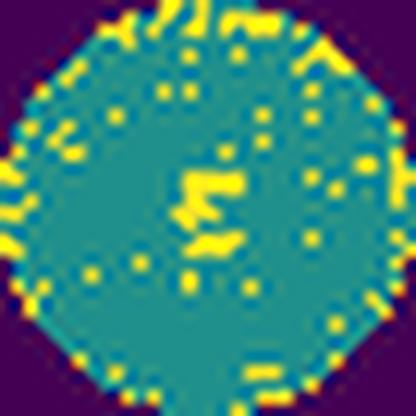Center: (170, 162, 250, 263)
